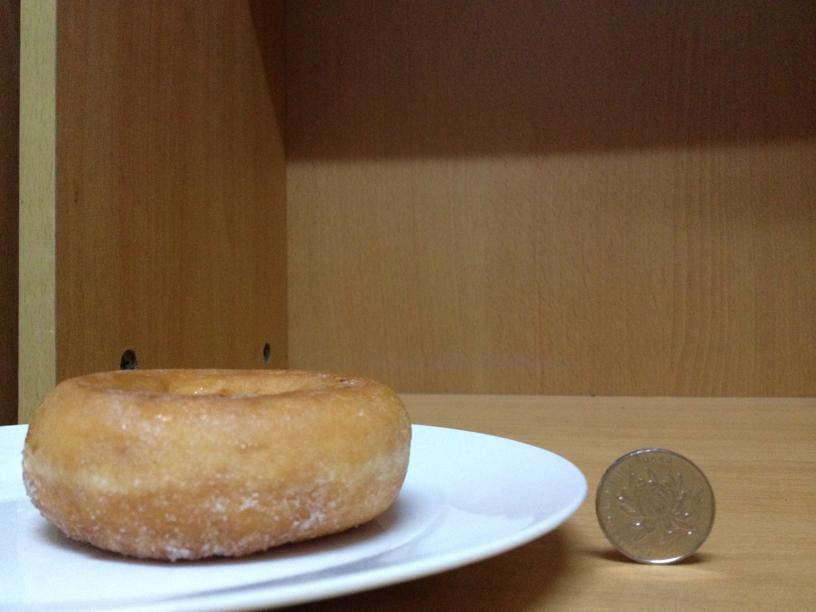coin: (595, 446, 715, 562)
doughnut: (22, 365, 412, 557)
